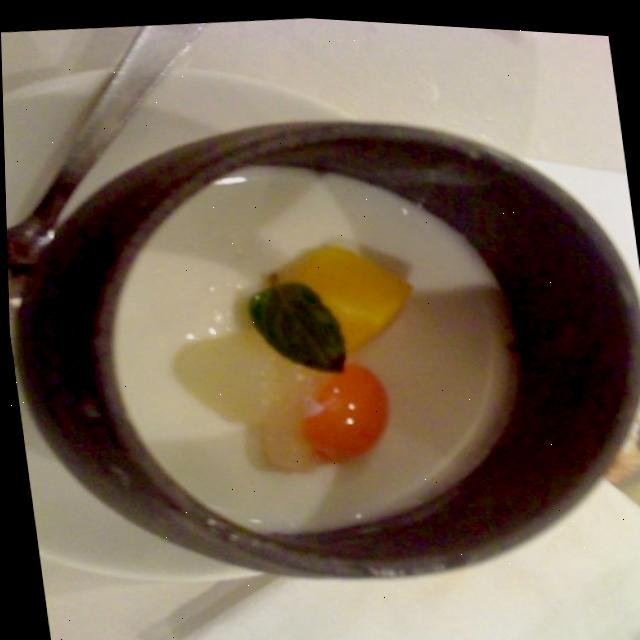面包点心: (31, 56, 640, 640)
